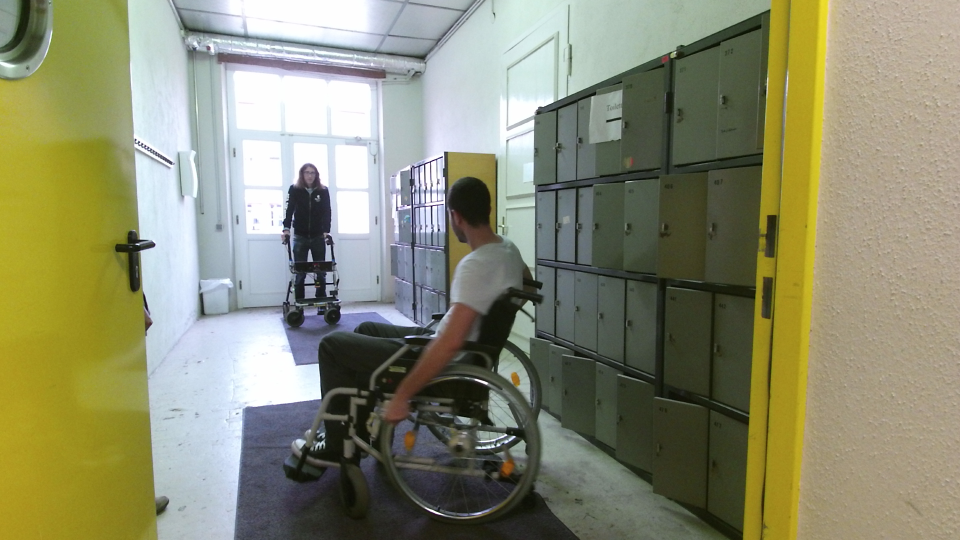wheelchair: (276, 171, 553, 530)
